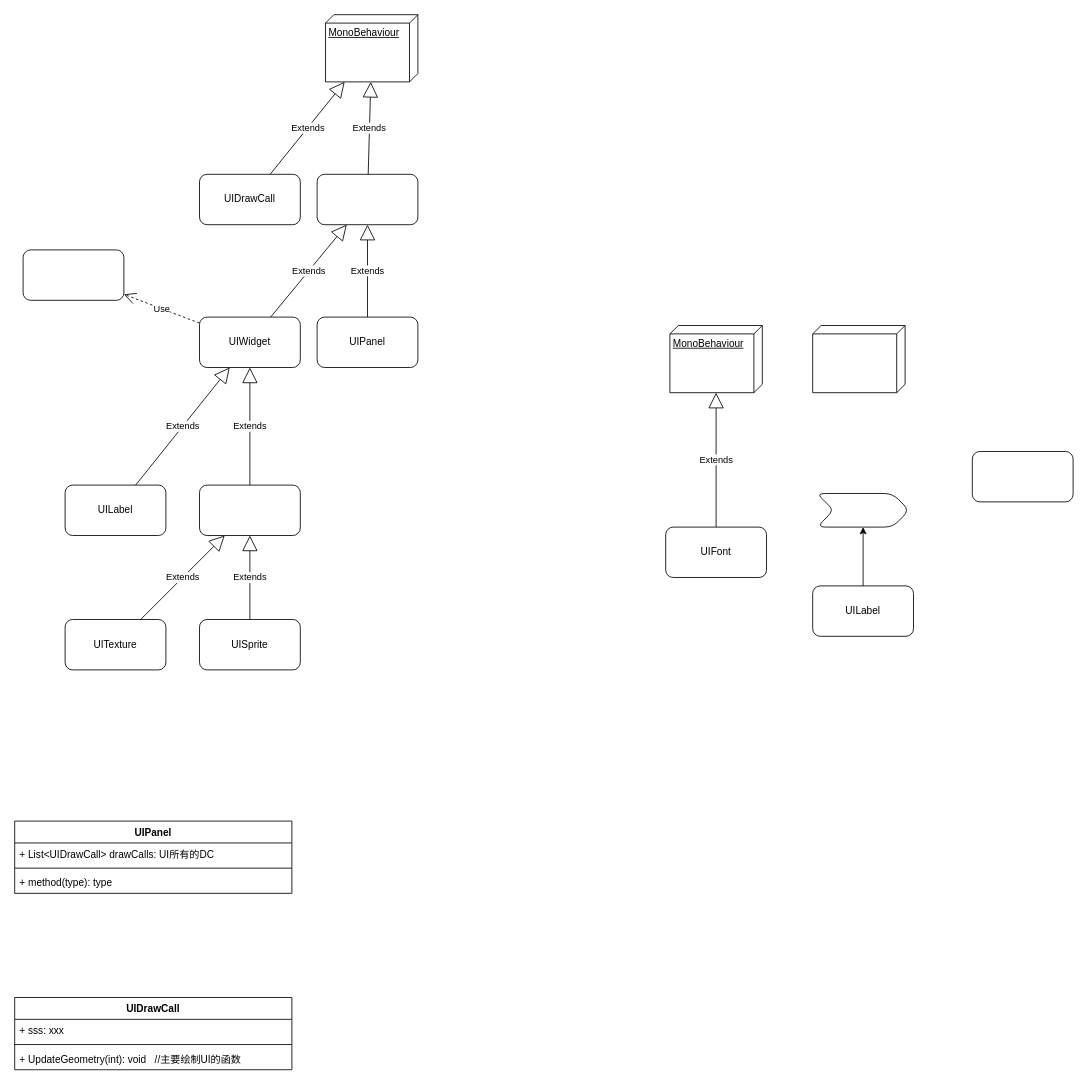
This 1088x1087 diagram has some shape labels left out. Here are the shapes that lost their labels. From the top down, the box of each, then its label:
(316, 173, 418, 225): UIRect
(22, 249, 124, 300): UIGeometry
(812, 325, 905, 393): Font
(971, 451, 1073, 502): NGUIText
(199, 484, 300, 536): UIBasicSprite
(816, 493, 909, 527): 查看NGUI架构
